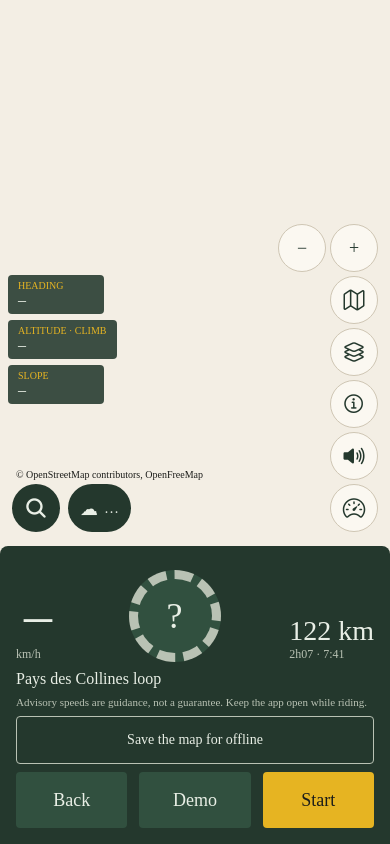
Test case: far from the roadbook: it routes to the start once and shows the way there
What coordinates should you click on to do the following:
click the button "Start"
I would click on:
 (318, 800)
Its box is [263,772,374,828].
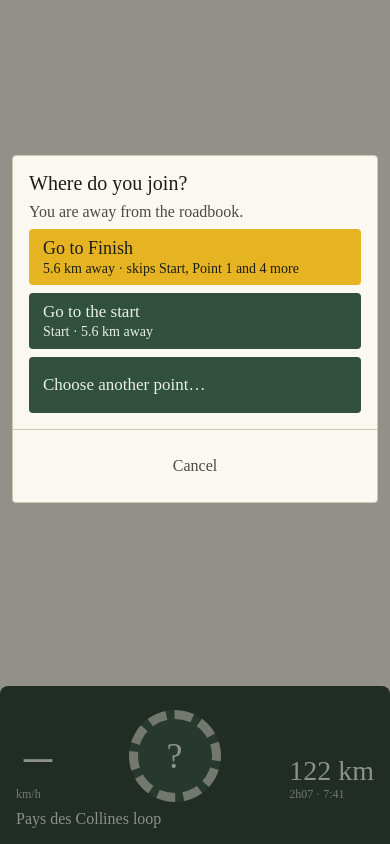
# Away from the roadbook the app asks where to join (ADR 0016): to the start, here.
What coordinates should you click on to do the following:
click the text "Go to the start"
I would click on:
 (91, 312)
Its box is [43,302,140,321].
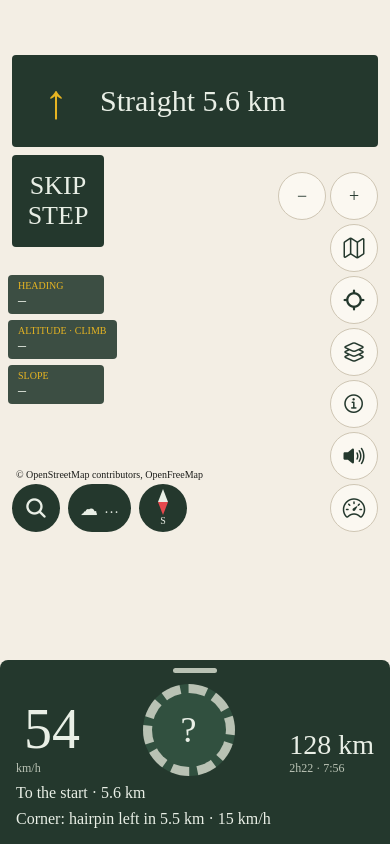
expect the text "To the start · 5.6 km" is shown: met, box [16,784,146,801]
expect the text "Straight 5.6 km" is shown: met, box [100,84,286,117]
